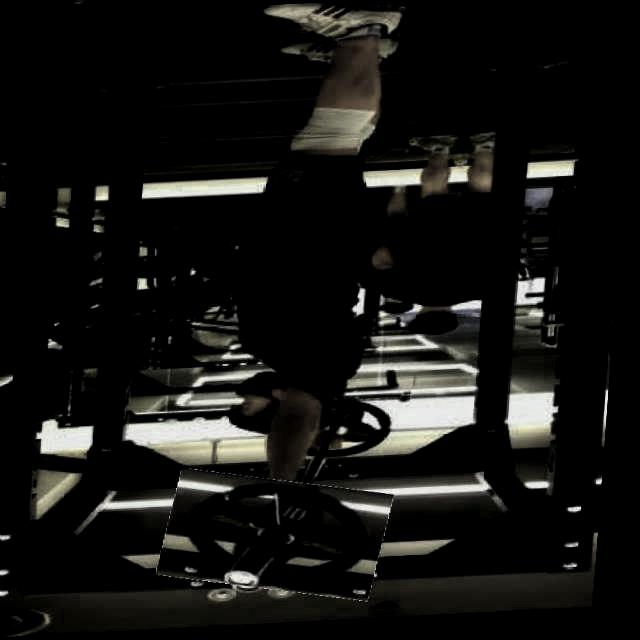barbell: (167, 472, 400, 607)
